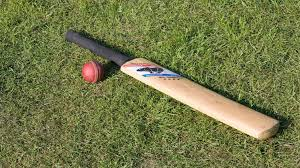bottom left: (252, 130, 264, 142)
bottom right: (271, 114, 287, 130)
top left: (115, 62, 129, 76)
top right: (138, 52, 150, 64)
